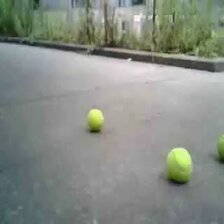tennis: (166, 147, 192, 181), (87, 108, 103, 128)
